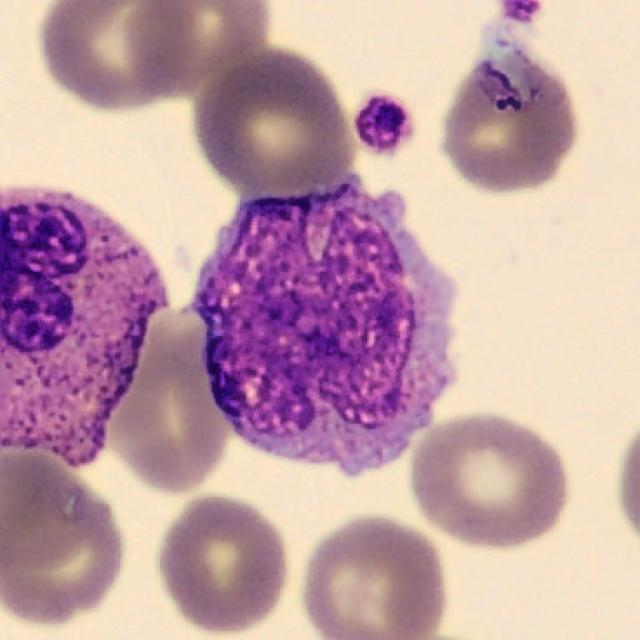Monocito: (190, 182, 456, 477)
